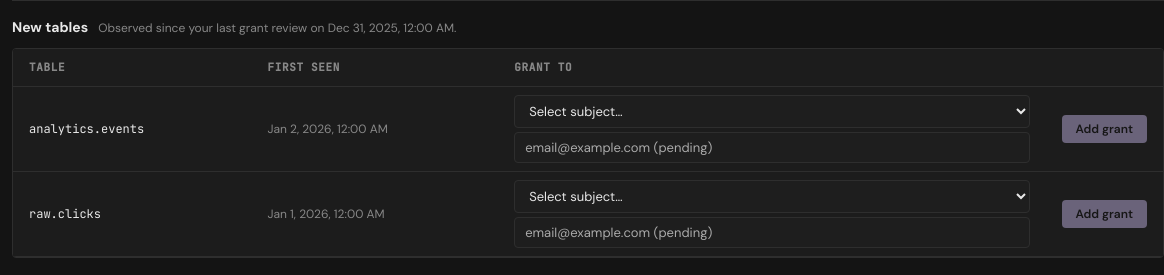
Test case: pending grants › disables the subject select and names the recipient when a pending email is set
The width and height of the screenshot is (1164, 275).
Expected: the text "analytics.events" is shown, x1=29 y1=121 x2=144 y2=137
Select "Data Team" in the dropdown named "Subject for analytics.events": point(772, 111) x1=514 y1=94 x2=1030 y2=128
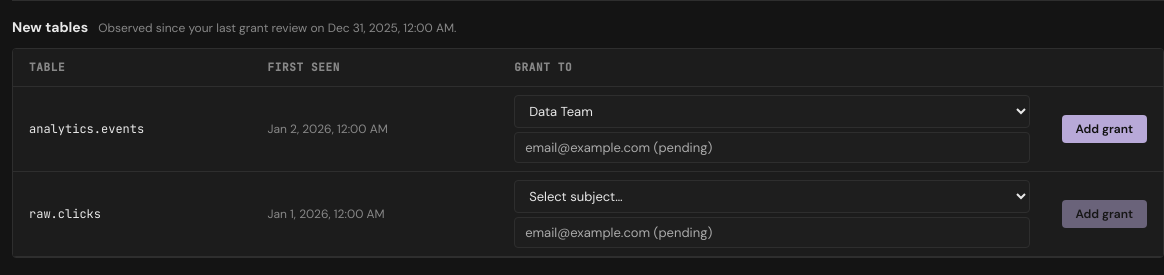
In the field named "Pending email for analytics.events": point(772, 147) x1=514 y1=132 x2=1030 y2=162, type "Future@Example.com"
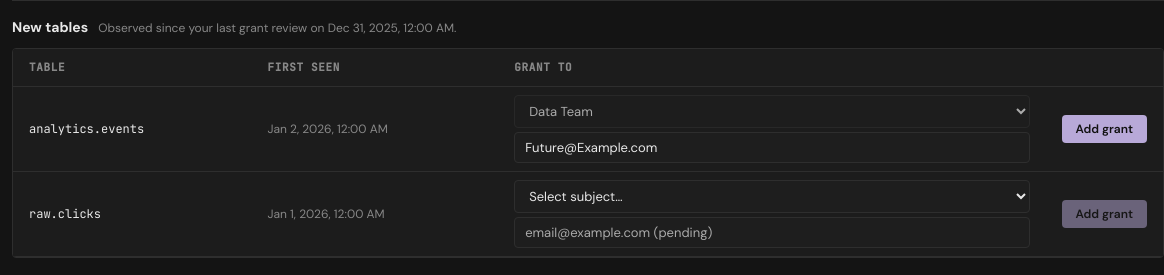
Expected: the dropdown named "Subject for raw.clicks" is enabled, x1=514 y1=180 x2=1030 y2=212
Expected: the dropdown named "Subject for analytics.events" is disabled, x1=514 y1=94 x2=1030 y2=128
Note: Clearing the email restores subject mode.
Clear the field named "Pending email for analytics.events": point(772, 147) x1=514 y1=132 x2=1030 y2=162
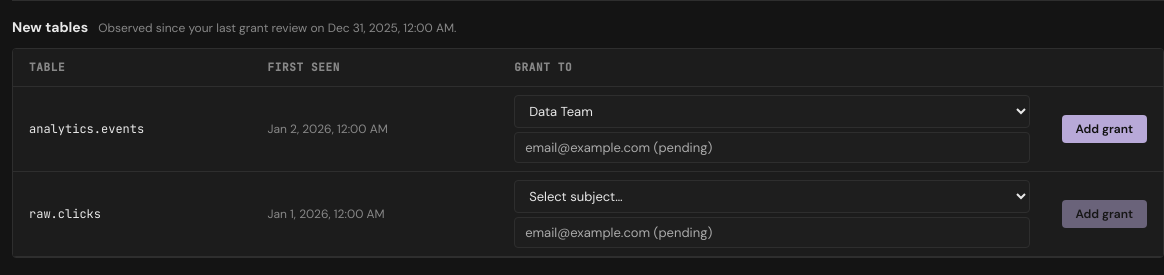
Expected: the button with aria-label "Add grant for analytics.events" is shown, x1=1062 y1=114 x2=1147 y2=142
Expected: the dropdown named "Subject for analytics.events" is enabled, x1=514 y1=94 x2=1030 y2=128
